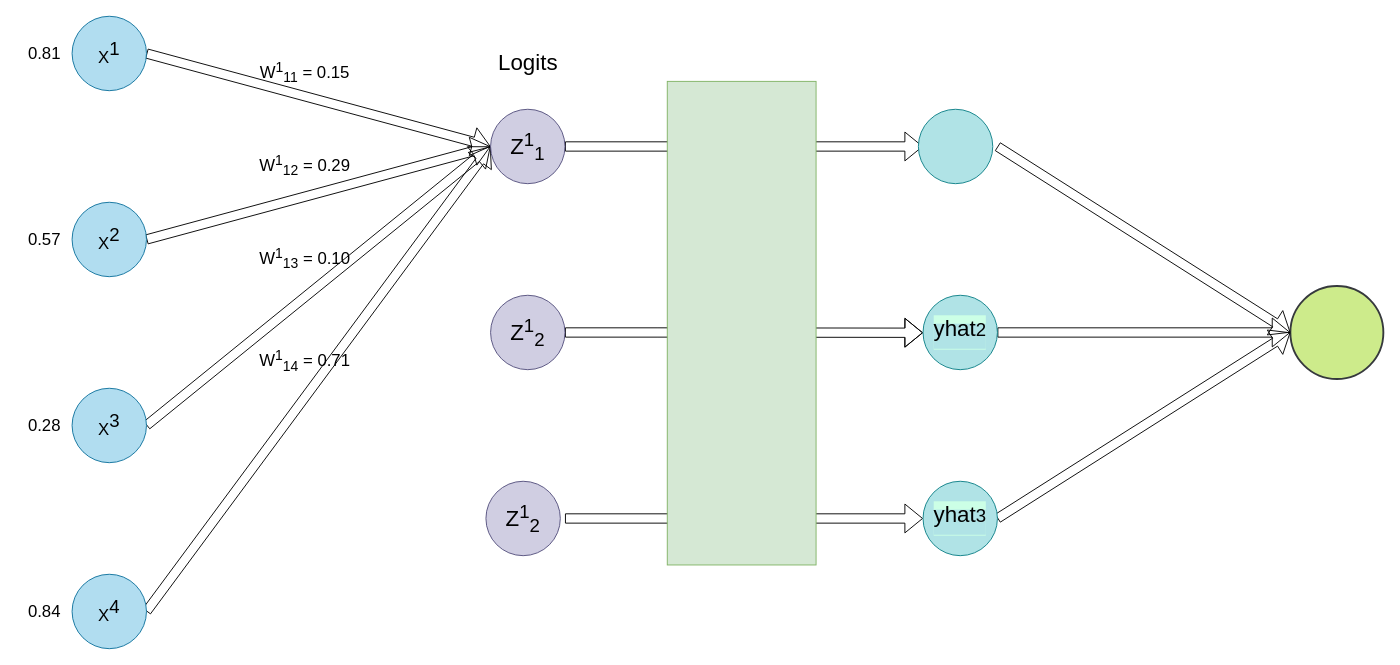
Some shapes in this 1400 by 665 pixel diagram are drawn without their labels. Each missing label, with the box of its shape:
CEL: (1289, 285, 1384, 379)
Softmax: (666, 80, 816, 565)
yhat 1: (917, 108, 993, 184)
